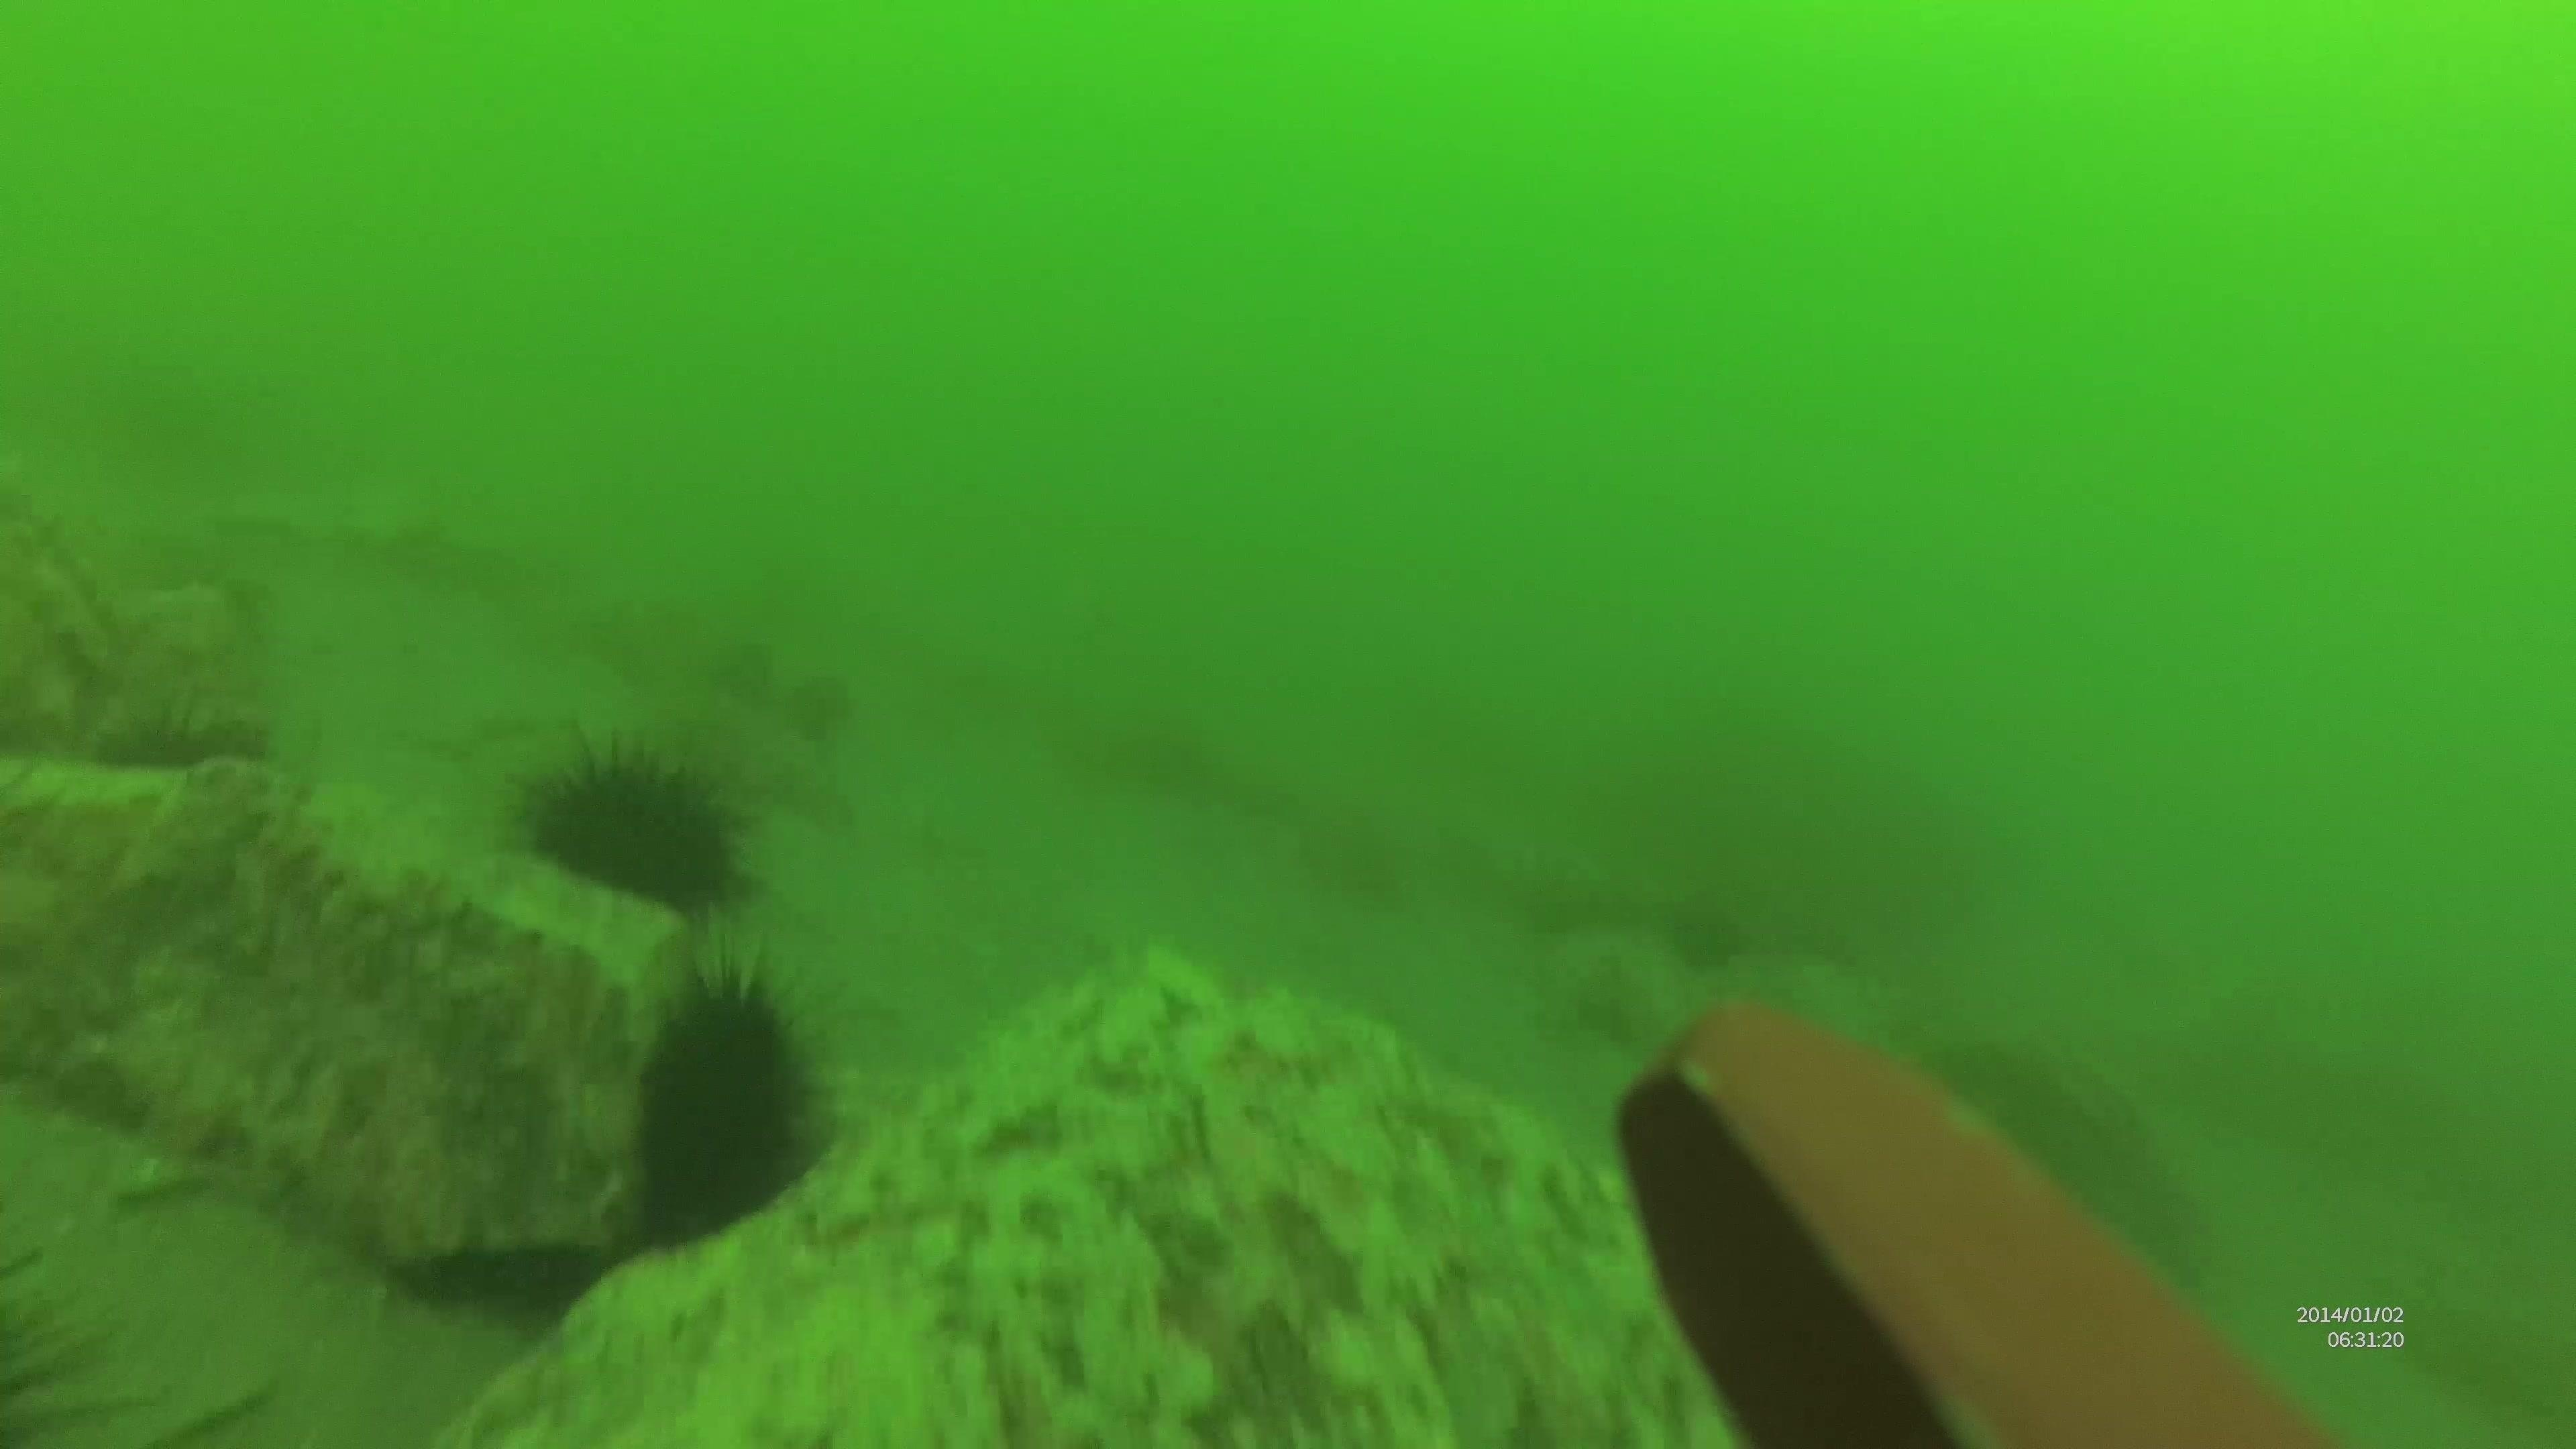echinus: (610, 954, 842, 1251), (510, 725, 757, 922), (87, 686, 274, 784)
